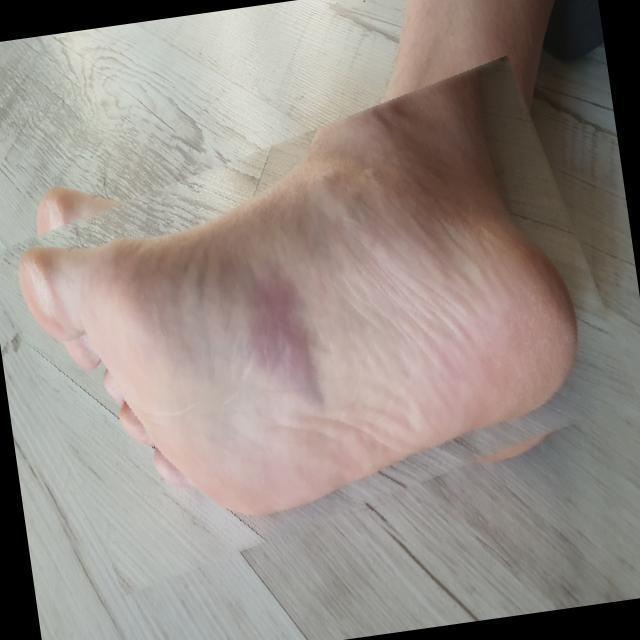No_Shoes: (35, 147, 588, 544)
